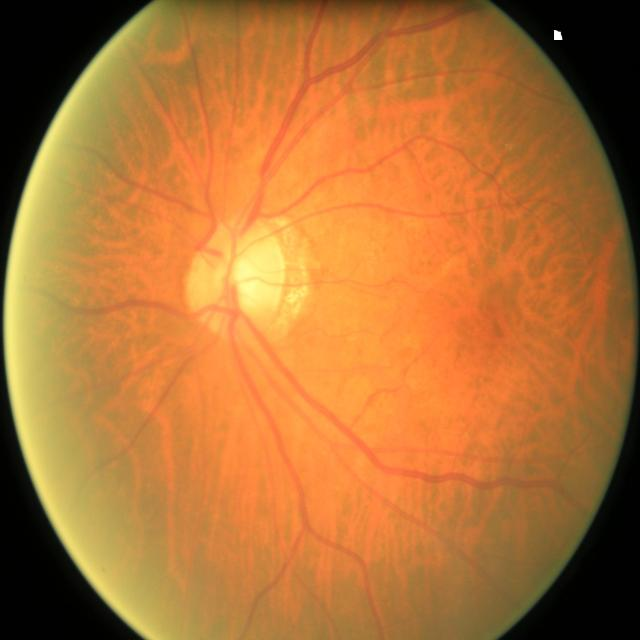OC: (212, 254, 254, 307)
OD: (186, 221, 288, 335)
